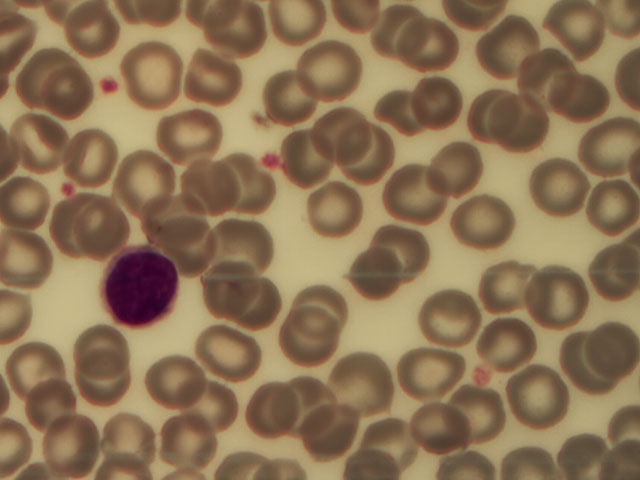Platelets: (100, 74, 119, 99), (53, 180, 78, 198), (258, 149, 282, 167), (472, 367, 493, 385)
RBC: (122, 37, 194, 112), (16, 35, 88, 110), (4, 99, 76, 174), (75, 122, 147, 197), (113, 145, 185, 220), (155, 103, 227, 178), (170, 143, 242, 218), (142, 184, 214, 259), (202, 155, 274, 230), (207, 207, 279, 282), (203, 246, 275, 321), (234, 277, 306, 352), (275, 308, 347, 383), (299, 272, 371, 347), (342, 243, 414, 318), (372, 209, 444, 284), (291, 180, 363, 255), (281, 133, 353, 208), (302, 108, 374, 183), (326, 116, 398, 191), (245, 58, 317, 133), (285, 39, 357, 114), (197, 3, 269, 78), (191, 36, 263, 111), (392, 19, 464, 94), (399, 61, 471, 136), (373, 75, 445, 150), (382, 157, 454, 232), (431, 124, 503, 199), (449, 184, 521, 259), (460, 82, 532, 157), (483, 88, 555, 163), (511, 46, 583, 121), (474, 13, 546, 88), (565, 69, 637, 144), (568, 107, 640, 182), (533, 153, 605, 228), (568, 167, 640, 242), (568, 235, 640, 310), (527, 263, 599, 338), (472, 245, 544, 320), (414, 276, 486, 351), (393, 323, 465, 398), (329, 352, 401, 427), (302, 405, 374, 480), (234, 372, 306, 447), (190, 311, 262, 386), (137, 344, 209, 419), (180, 370, 252, 445), (160, 402, 232, 477), (94, 405, 166, 480), (34, 405, 106, 480), (23, 384, 95, 459), (11, 339, 83, 414), (74, 312, 146, 387), (50, 198, 122, 273), (63, 1, 135, 75), (1, 175, 49, 220), (1, 229, 49, 274)
WBC: (95, 244, 185, 328)
